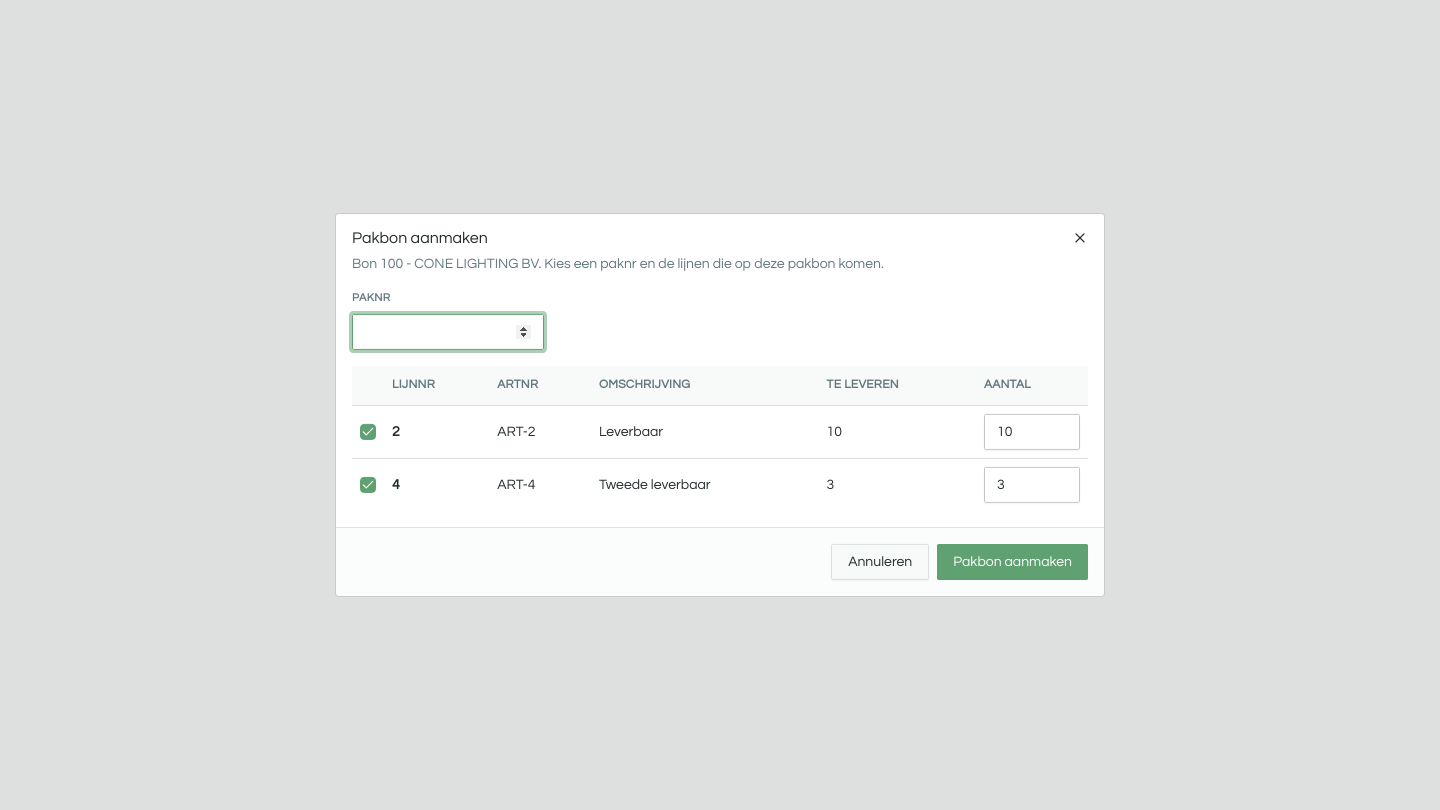
Scenario: PakbonAanmakenDialog › requires a paknr and at least one selected line
Click the button "Pakbon aanmaken" at point(1013, 562), box top-left (937, 544), bottom-right (1088, 580)
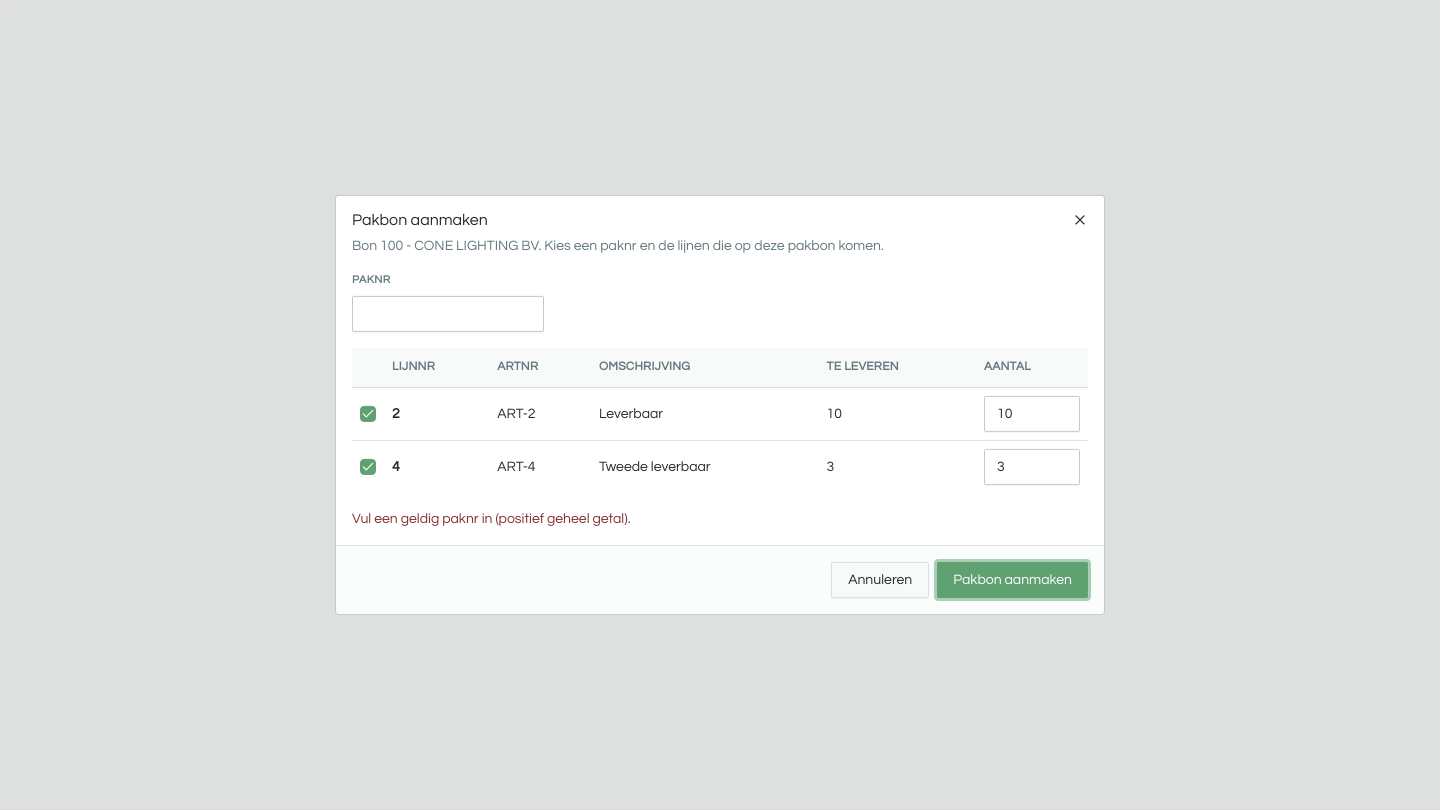
Expected: the text "Vul een geldig paknr in (positief geheel getal)." is shown, top-left (352, 512), bottom-right (630, 526)
Type "7" into the number field labelled "Paknr" at point(448, 314), box top-left (352, 296), bottom-right (544, 332)
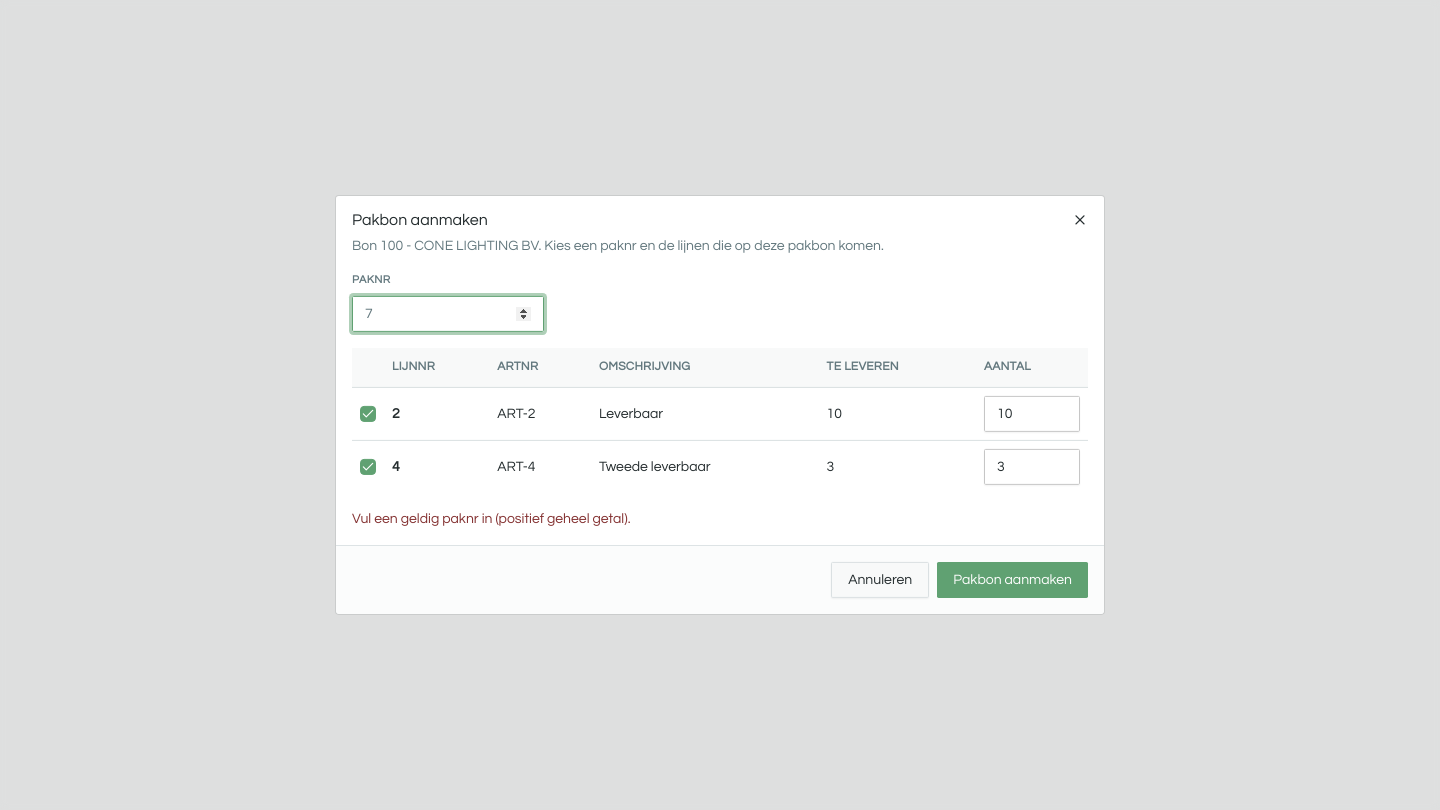
Click the checkbox named "Lijn 2 opnemen in pakbon" at point(368, 414), box top-left (360, 406), bottom-right (376, 422)
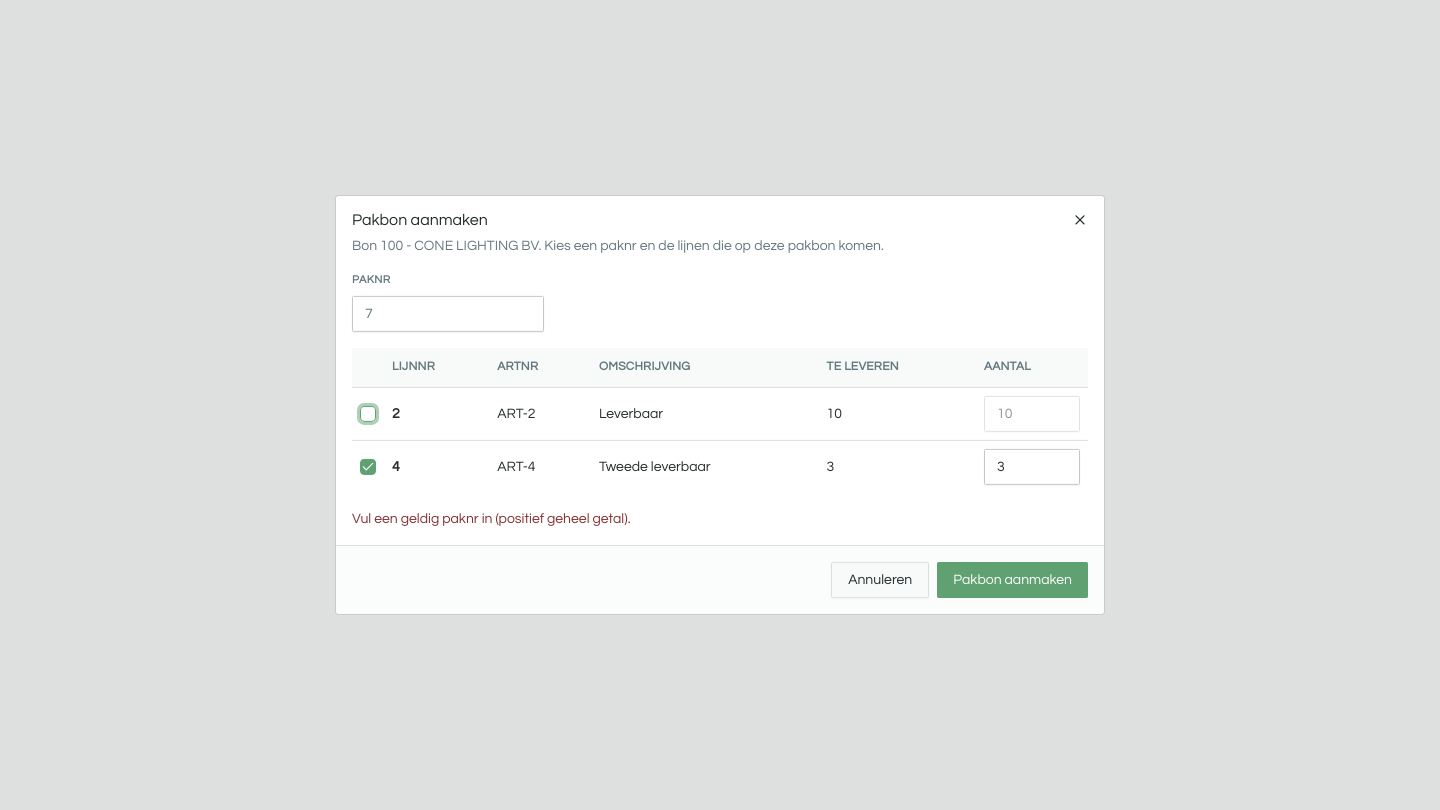
Click the checkbox named "Lijn 4 opnemen in pakbon" at point(368, 467), box top-left (360, 459), bottom-right (376, 475)
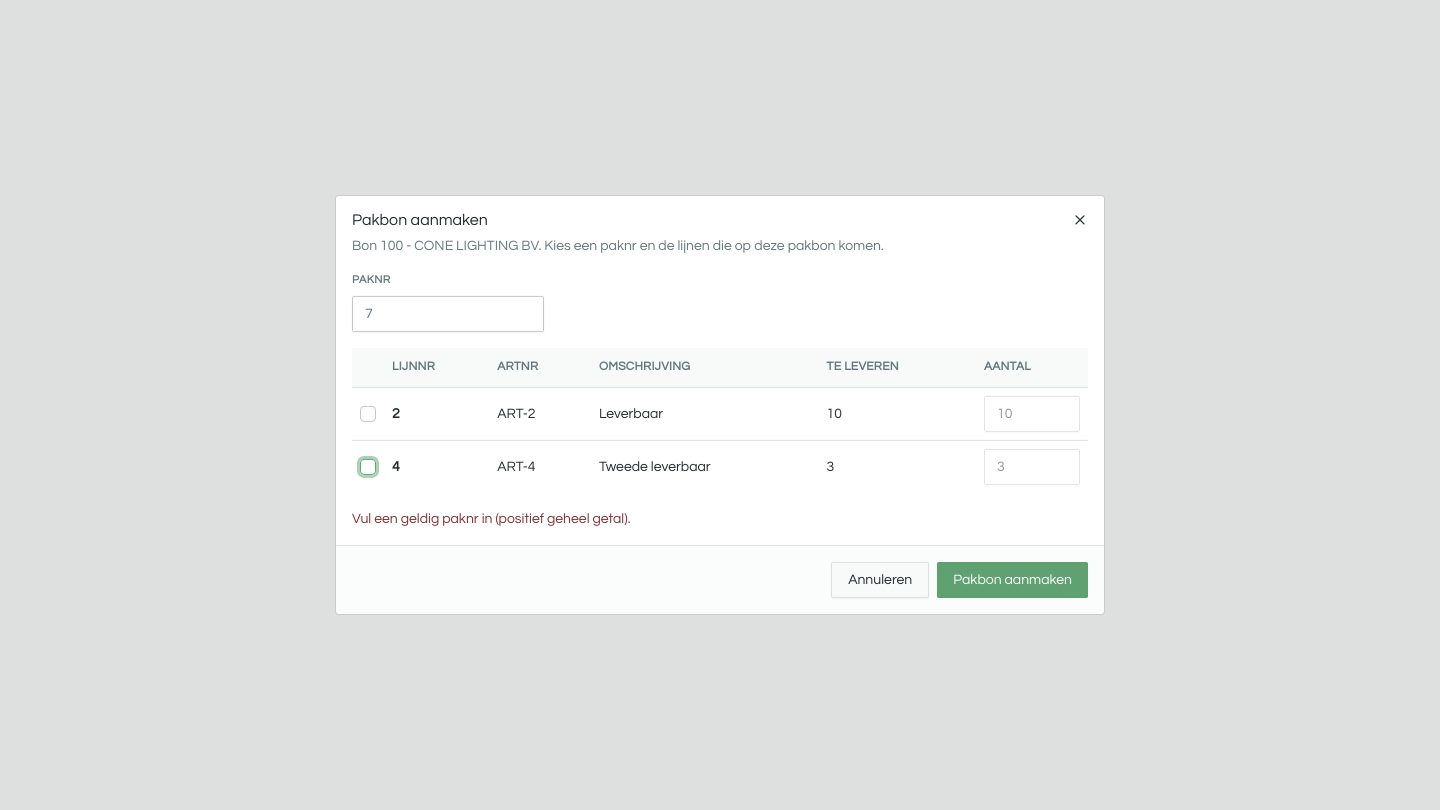
Click the button "Pakbon aanmaken" at point(1013, 580), box top-left (937, 562), bottom-right (1088, 598)
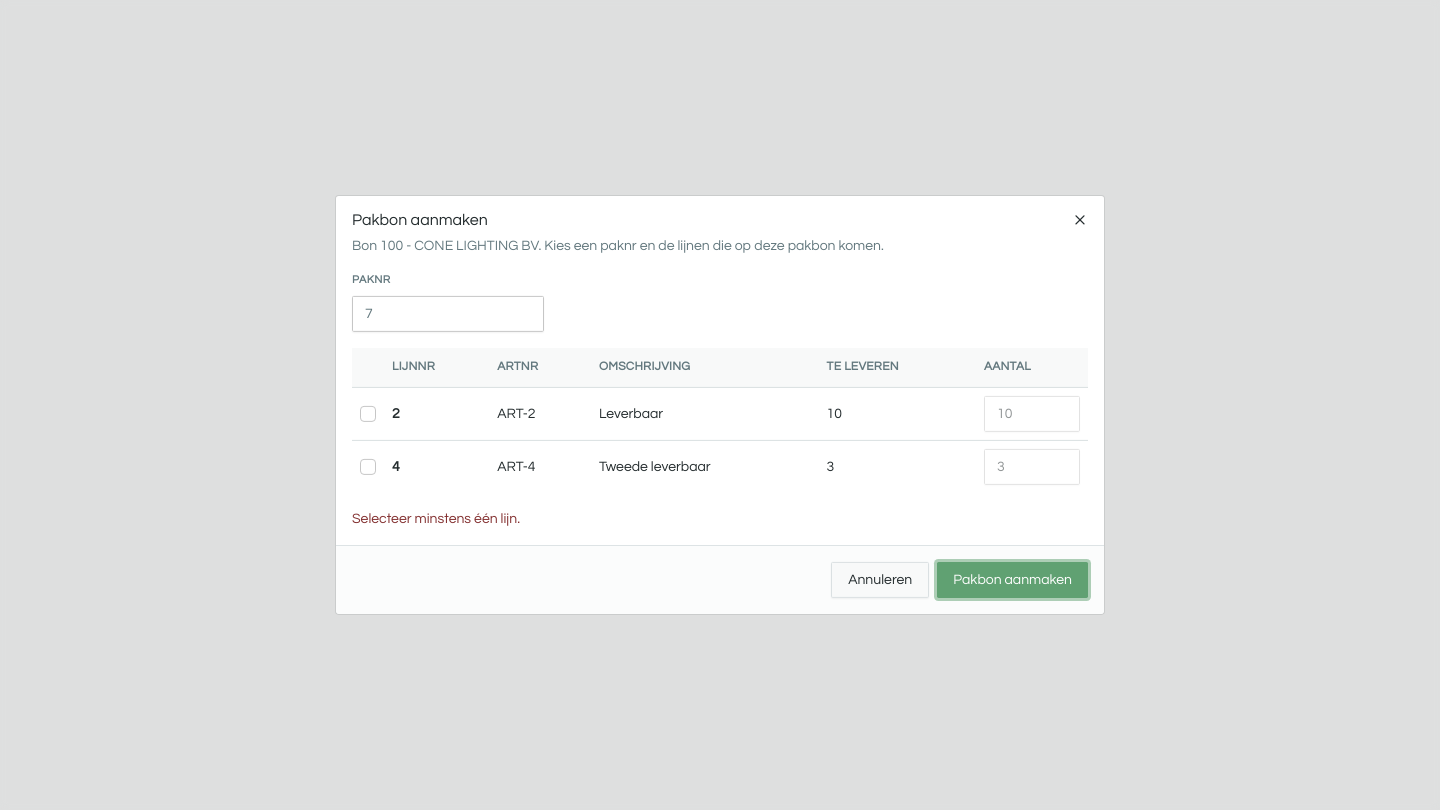
Expected: the text "Selecteer minstens één lijn." is shown, top-left (352, 512), bottom-right (520, 526)
